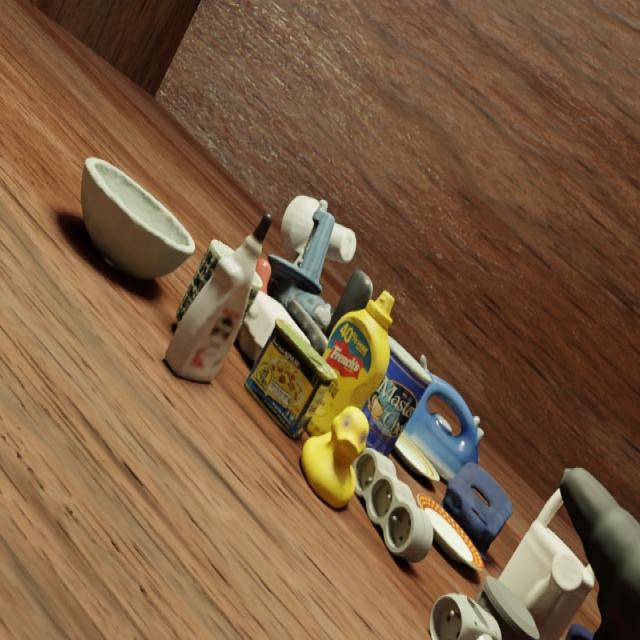Other Objects: (164, 215, 271, 383), (81, 157, 194, 279), (307, 291, 393, 435), (245, 319, 336, 439), (355, 448, 432, 561), (300, 405, 368, 508), (362, 349, 427, 453), (442, 463, 512, 557), (173, 240, 233, 331), (416, 493, 484, 571), (237, 291, 297, 359), (477, 576, 539, 639), (430, 593, 501, 639), (246, 279, 260, 315)
